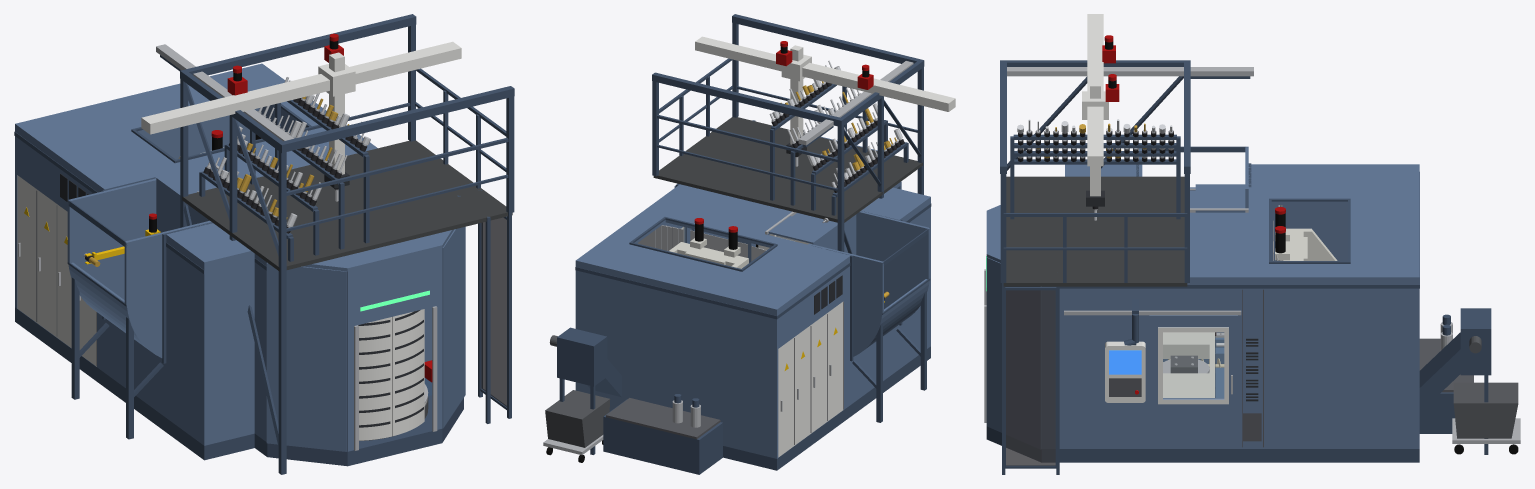
File: clock1200evo_fms_4ax_topmag_blue.glb
3 views of the same model, side by side, from view 1: azimuth 30°, elevation 25°; view 2: azimuth 150°, elevation 25°; view 3: azimuth 270°, elevation 25° (orthographic). The views are drawn at different scales.
Parts seen in each view (by area): view 1: enclosure__mcm_blue, apc_housing__mcm_blue, tool_magazine_top__mcm_blue_dk, tool_magazine_top__grating, tc_box__mcm_blue, electrical_cabinet__evo_white, tm_carriage__evo_white, enclosure__mcm_blue_dk, tool_magazine_top__mesh, apc_housing__mcm_blue_dk, apc_door_left__evo_white, apc_door_right__evo_white (+12 smaller); view 2: enclosure__mcm_blue, tool_magazine_top__mcm_blue_dk, tool_magazine_top__grating, tc_box__mcm_blue, chip_coolant__mcm_blue_dk, electrical_cabinet__evo_white, enclosure__mcm_blue_dk, tm_carriage__evo_white, chip_cart__steel_dark, chip_coolant__anthracite_lt, tc_box__mcm_blue_dk, tool_magazine_top__tool_bright (+12 smaller); view 3: enclosure__mcm_blue, tool_magazine_top__grating, tool_magazine_top__mcm_blue_dk, apc_housing__mcm_blue, tool_magazine_top__mesh, enclosure__mcm_blue_dk, chip_coolant__mcm_blue_dk, operator_door__glass_clear, operator_door__mcm_blue, chip_cart__steel_dark, tool_magazine_top__steel, table__struct_grey (+15 smaller).
Part boxes in pixels (box(x1,y1,x2,y2)): enclosure__mcm_blue: box(15, 63, 432, 445); apc_housing__mcm_blue: box(254, 226, 465, 451); tool_magazine_top__mcm_blue_dk: box(160, 14, 514, 474); tool_magazine_top__grating: box(182, 140, 512, 271); tc_box__mcm_blue: box(67, 178, 211, 357); electrical_cabinet__evo_white: box(17, 175, 96, 366); tm_carriage__evo_white: box(141, 41, 461, 134); enclosure__mcm_blue_dk: box(14, 104, 311, 460); tool_magazine_top__mesh: box(481, 217, 506, 406); apc_housing__mcm_blue_dk: box(254, 258, 463, 466); apc_door_left__evo_white: box(359, 317, 392, 440); apc_door_right__evo_white: box(392, 309, 424, 435); enclosure__mcm_blue: box(575, 184, 930, 458); tool_magazine_top__mcm_blue_dk: box(652, 14, 924, 253); tool_magazine_top__grating: box(653, 117, 922, 222); tc_box__mcm_blue: box(810, 211, 930, 356); chip_coolant__mcm_blue_dk: box(557, 327, 722, 474); electrical_cabinet__evo_white: box(778, 301, 843, 457); enclosure__mcm_blue_dk: box(575, 203, 931, 470); tm_carriage__evo_white: box(695, 36, 955, 111); chip_cart__steel_dark: box(545, 390, 610, 447); chip_coolant__anthracite_lt: box(606, 398, 720, 439); tc_box__mcm_blue_dk: box(852, 227, 930, 422); tool_magazine_top__tool_bright: box(769, 60, 902, 186); enclosure__mcm_blue: box(1065, 164, 1419, 448); tool_magazine_top__grating: box(1003, 176, 1187, 286); tool_magazine_top__mcm_blue_dk: box(1000, 60, 1250, 474); apc_housing__mcm_blue: box(986, 205, 1064, 448); tool_magazine_top__mesh: box(1006, 290, 1055, 465); enclosure__mcm_blue_dk: box(1065, 163, 1419, 462); chip_coolant__mcm_blue_dk: box(1419, 308, 1491, 454); operator_door__glass_clear: box(1163, 333, 1223, 398); operator_door__mcm_blue: box(1149, 315, 1237, 414); chip_cart__steel_dark: box(1453, 382, 1518, 438); tool_magazine_top__steel: box(1007, 67, 1253, 158); table__struct_grey: box(1163, 332, 1214, 397).
Bounding box in the file's own units: 5.12 × 5.58 × 7.86.
